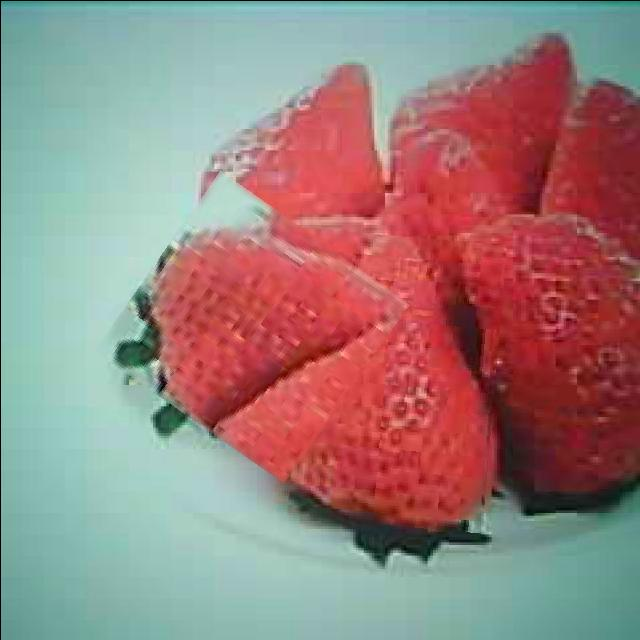strawberry: (114, 194, 388, 460), (278, 231, 500, 528)
